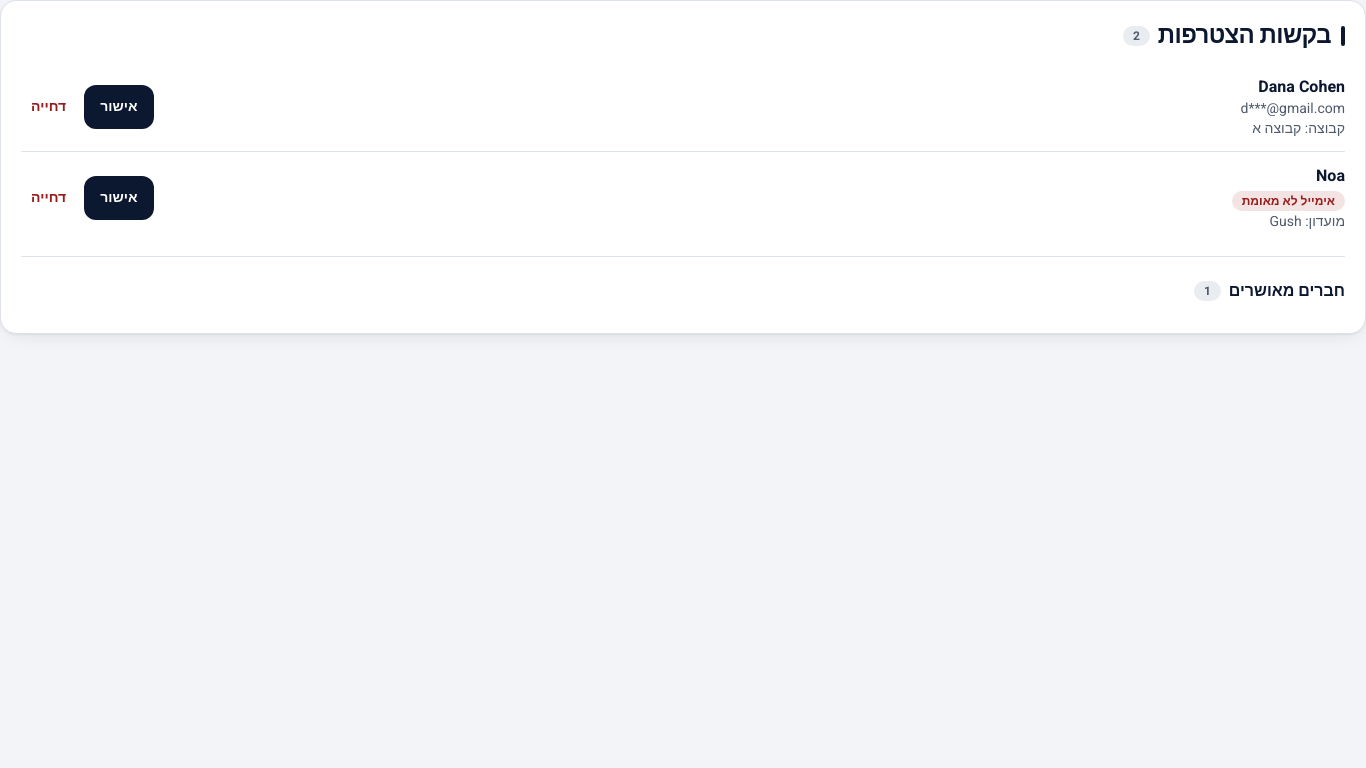
Test case: MembershipRequests › reject only DELETEs after the confirm dialog
Click the button with aria-label "דחיית הבקשה של Noa" at (49, 198), box [21, 176, 76, 220]
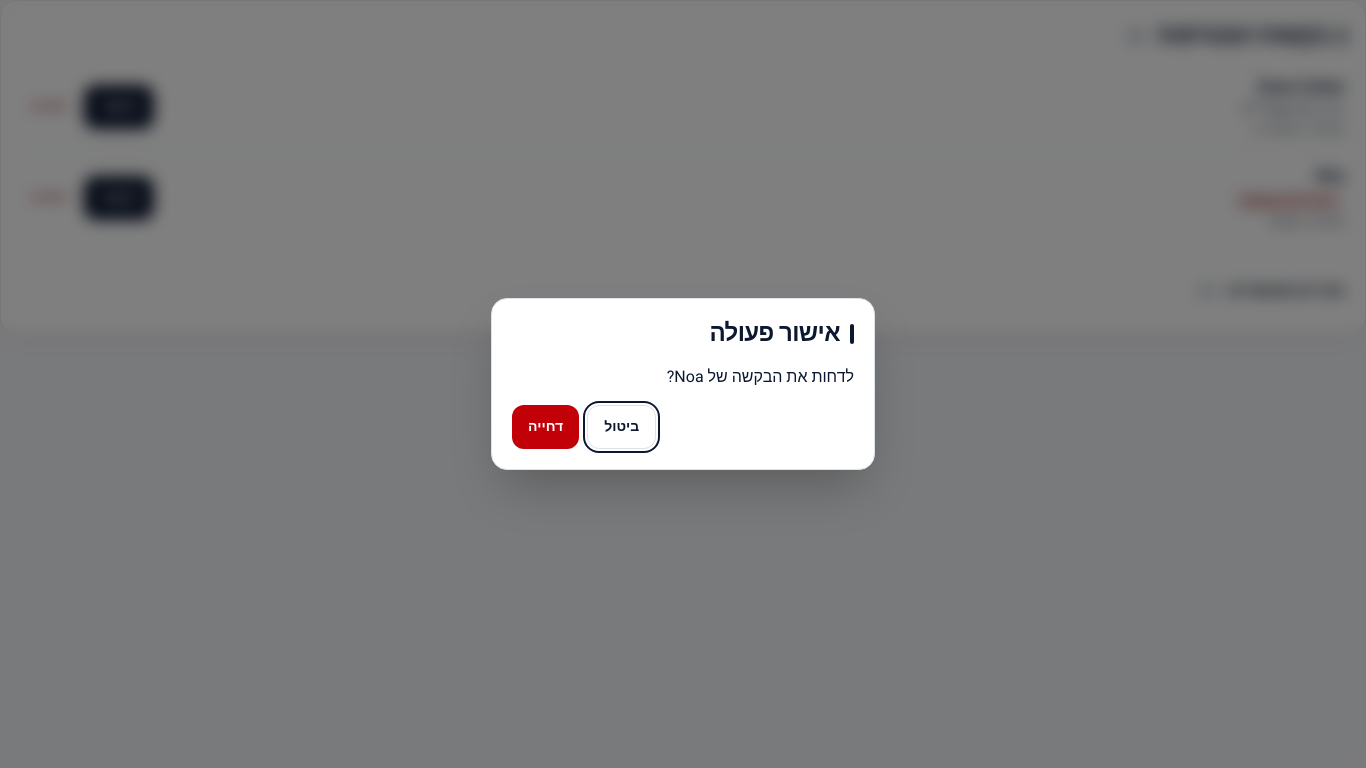
Check: the text "לדחות את הבקשה של Noa?" is shown, box [667, 365, 854, 389]
Click the button with class "btn-danger" at (546, 427), box [512, 405, 579, 449]
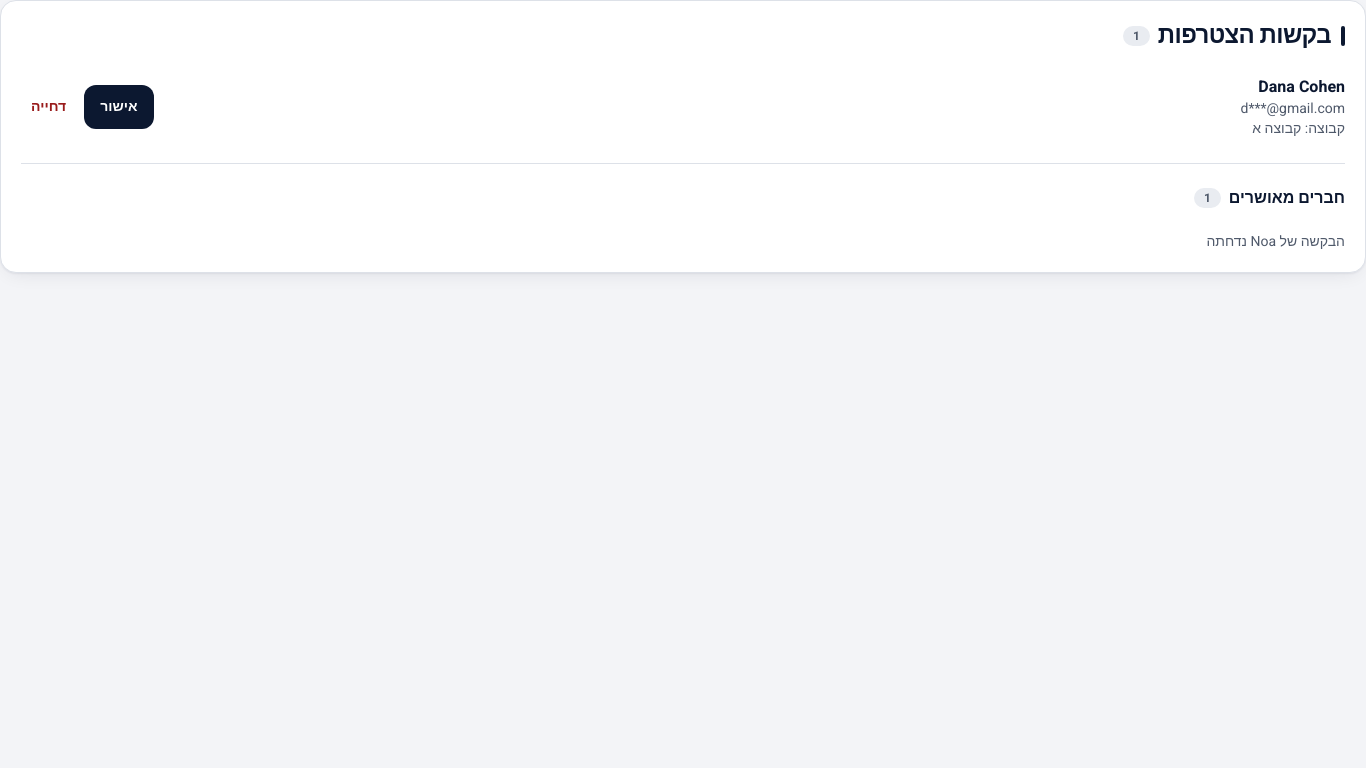
Check: the text "מועדון: Gush" is gone
